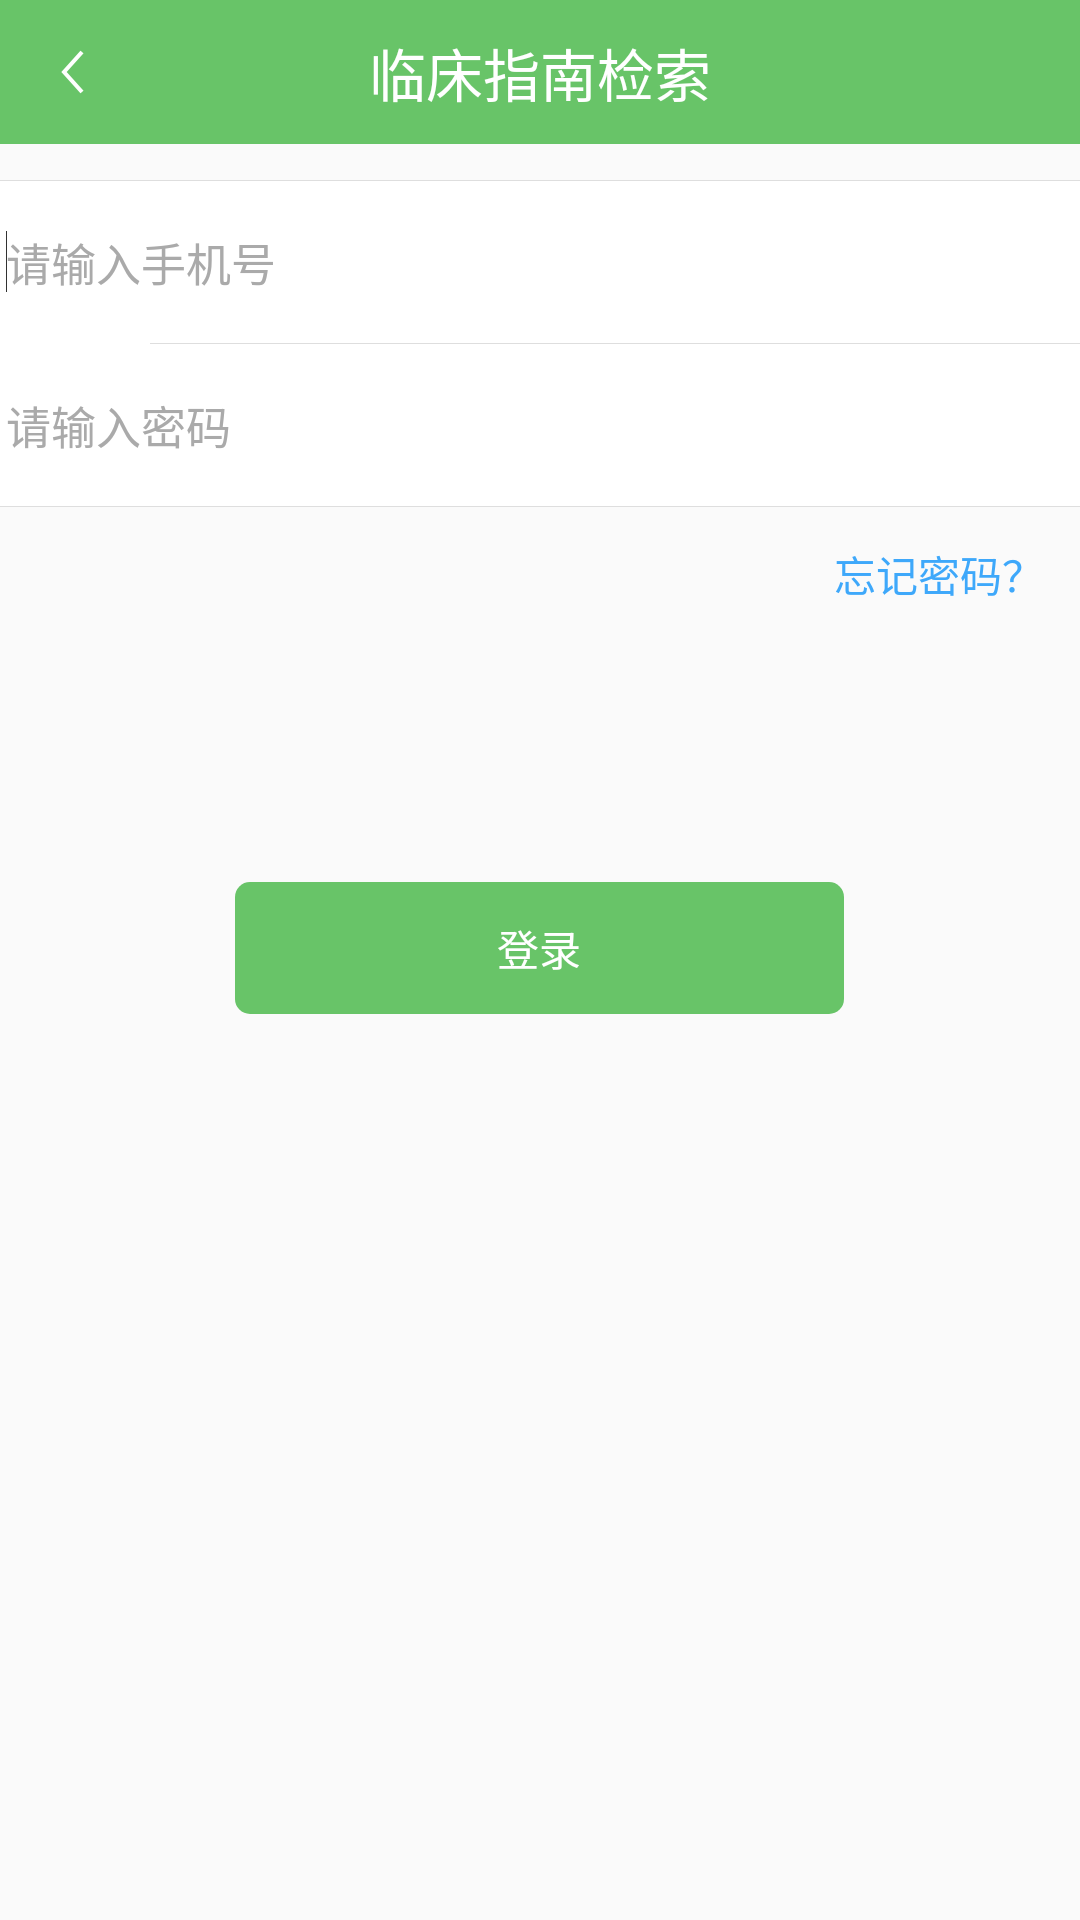

Where to tap for icons on this 1080px×1920px app screen, as point (x, y):
back: point (72, 72)
